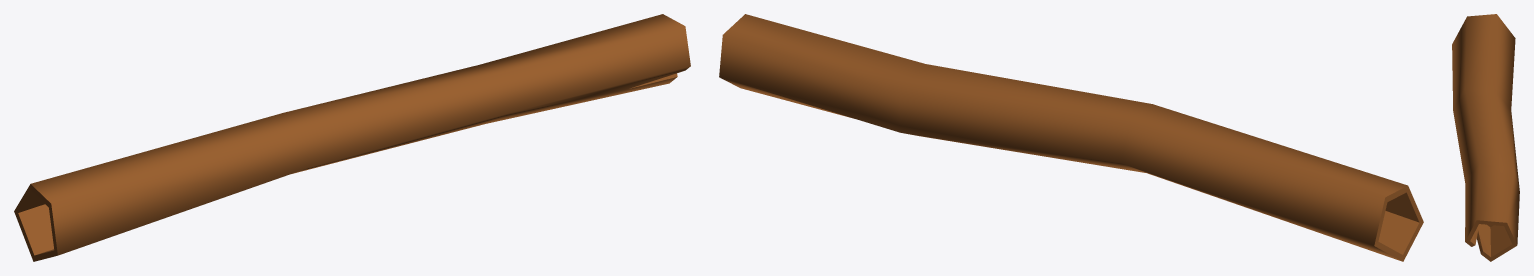
The model's file is Stick.fbx.
3 views of the same model, side by side, from view 1: azimuth 30°, elevation 25°; view 2: azimuth 150°, elevation 25°; view 3: azimuth 270°, elevation 25° (orthographic). The views are drawn at different scales.
Visible parts, largest first — view 1: Cylinder106; view 2: Cylinder106; view 3: Cylinder106.
Boxes of the visible parts, x1,y1,x2,y2 form: Cylinder106: (14, 14, 690, 261); Cylinder106: (719, 14, 1423, 261); Cylinder106: (1452, 14, 1519, 261).
Size of the model in its own units: 0.6113 by 0.0741 by 0.0808.
